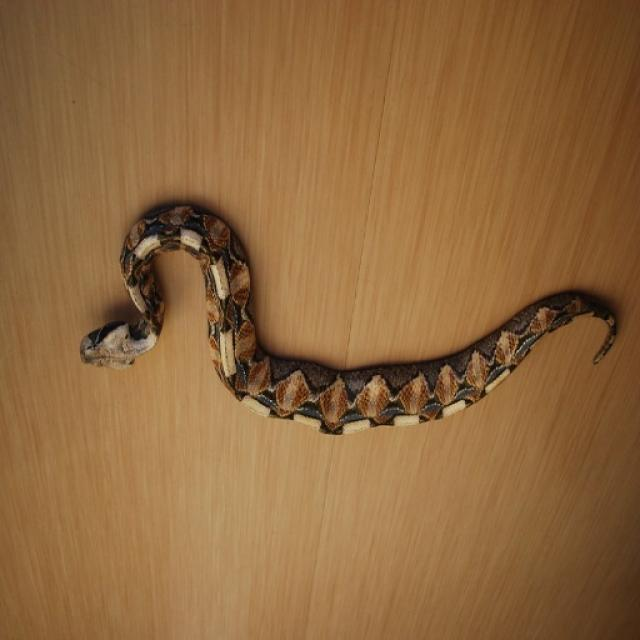snake: (69, 194, 640, 438)
